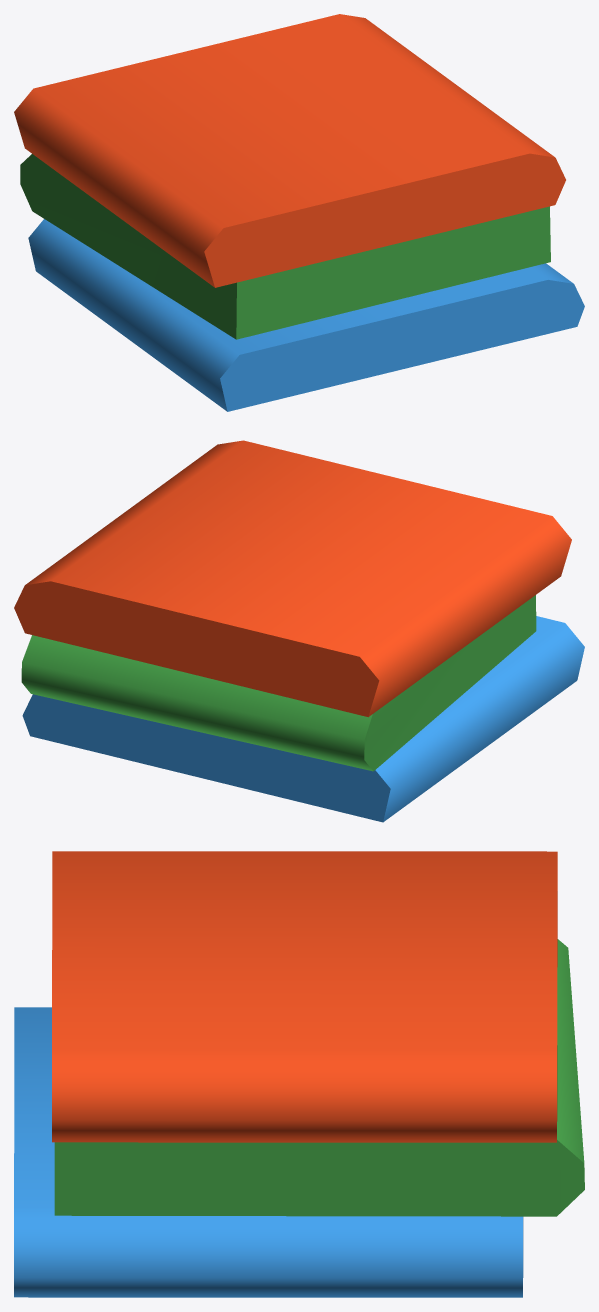
File: shop_030.fbx
3 views of the same model, one above another, from view 1: azimuth 30°, elevation 25°; view 2: azimuth 150°, elevation 25°; view 3: azimuth 270°, elevation 25° (orthographic). The views are drawn at different scales.
Parts seen in each view (by area): view 1: shop_030; view 2: shop_030; view 3: shop_030.
Boxes of the visible parts, x1,y1,x2,y2 form: shop_030: [14, 14, 584, 411]; shop_030: [14, 440, 584, 822]; shop_030: [14, 851, 584, 1297].
Bounding box in the file's own units: 40.31 × 41.02 × 17.96.
